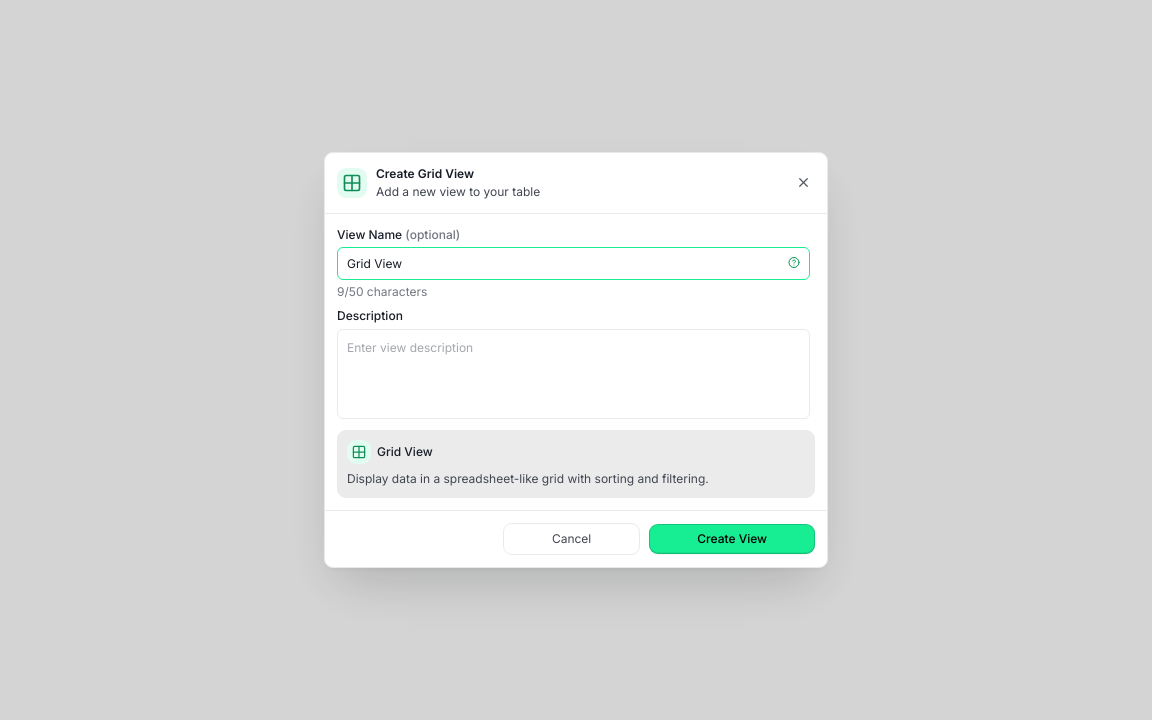
Test case: CreateViewModal › field selection validation › disables submit when name is too short
The width and height of the screenshot is (1152, 720).
Replace the text in the field labelled "View Name (optional)" with "ab" at coordinates (574, 263), box [337,247,810,280]
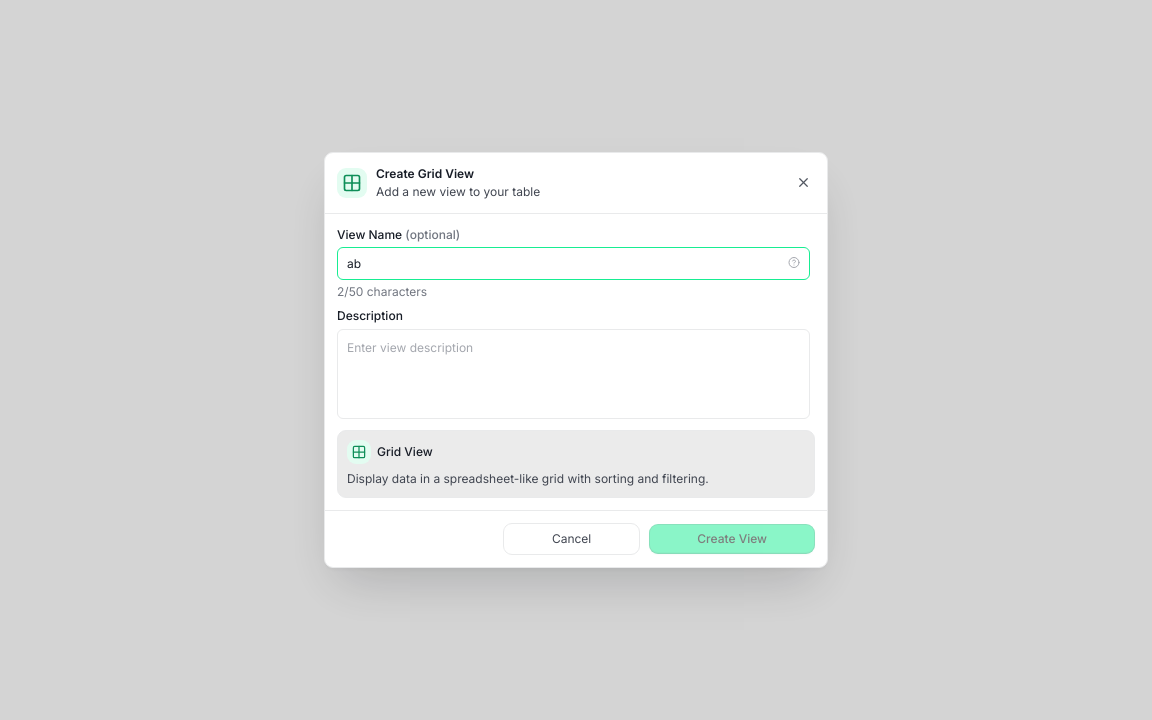
Now the button "Create View" is disabled, box [649,524,815,554]
